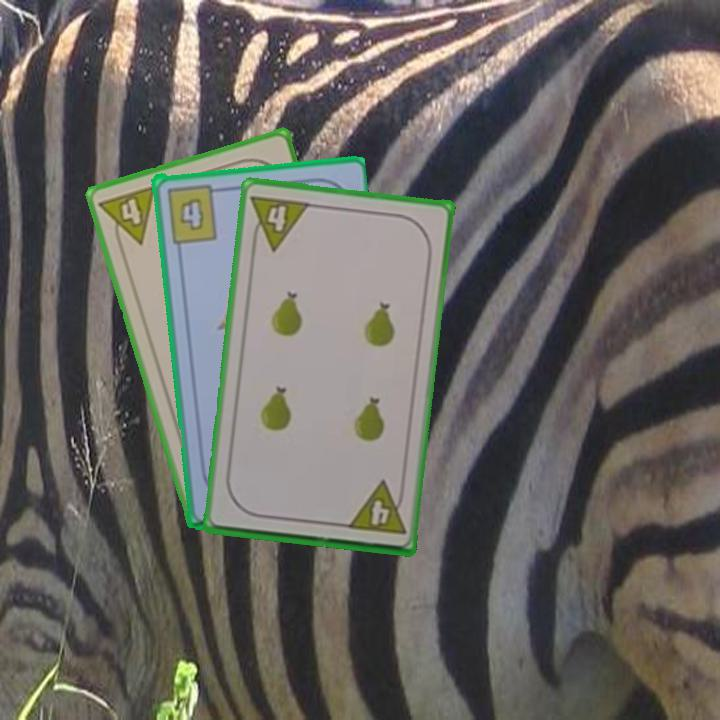4b: (163, 180, 225, 245)
4p: (95, 182, 159, 253), (247, 191, 313, 254), (343, 478, 409, 538)
